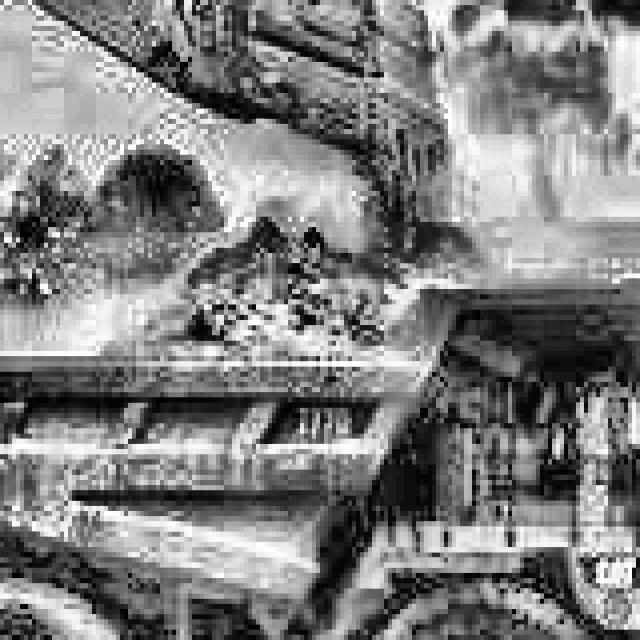dump_truck: (0, 227, 640, 640)
excavator: (0, 0, 472, 212)
